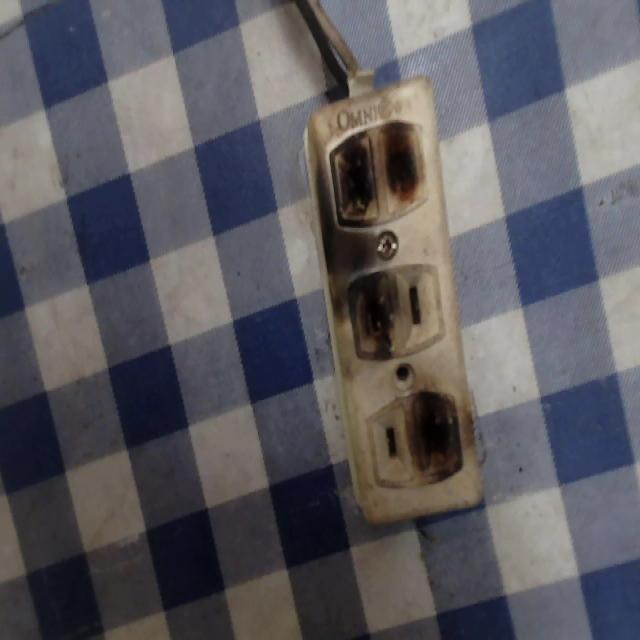-: (319, 124, 434, 229), (335, 265, 401, 363), (408, 392, 469, 488)
